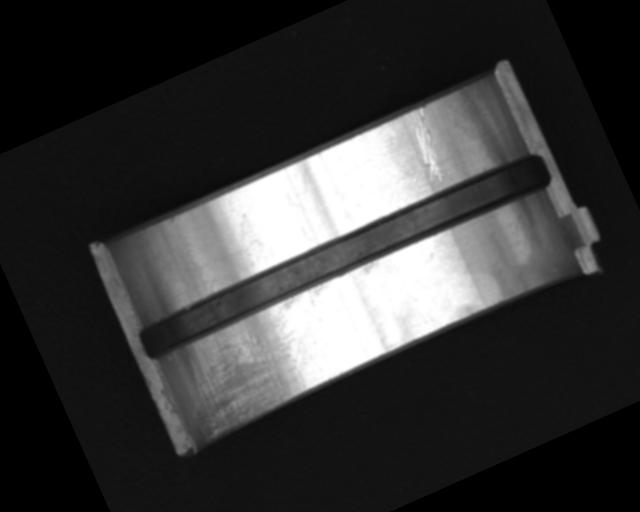gap: (134, 148, 556, 366)
nick: (399, 104, 455, 186)
scratch: (165, 295, 336, 445)
